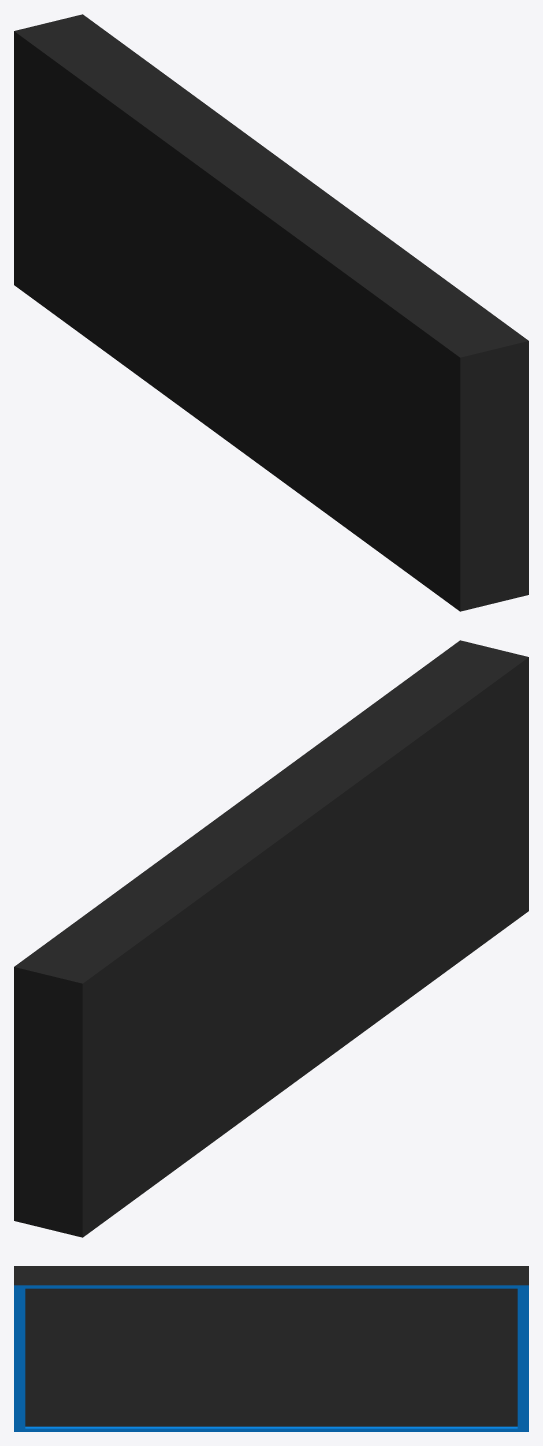
The model's file is floating-sign.gltf.
3 renders of one model, top to bottom at view 1: azimuth 30°, elevation 25°; view 2: azimuth 150°, elevation 25°; view 3: azimuth 270°, elevation 25°, orthographic. The views are drawn at different scales.
Visible parts, largest first — view 1: Cube.001; view 2: Cube.001; view 3: Cube.001.
Part boxes in pixels (left/top/right/bottom): Cube.001: left=14, top=14, right=528, bottom=611; Cube.001: left=14, top=640, right=528, bottom=1237; Cube.001: left=14, top=1266, right=528, bottom=1431.
Bounding box in the file's own units: 0.2154 × 0.76 × 2.42.
